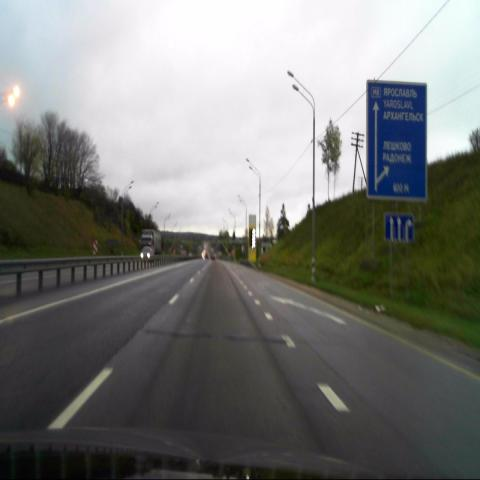5_15_1: (386, 214, 413, 242)
